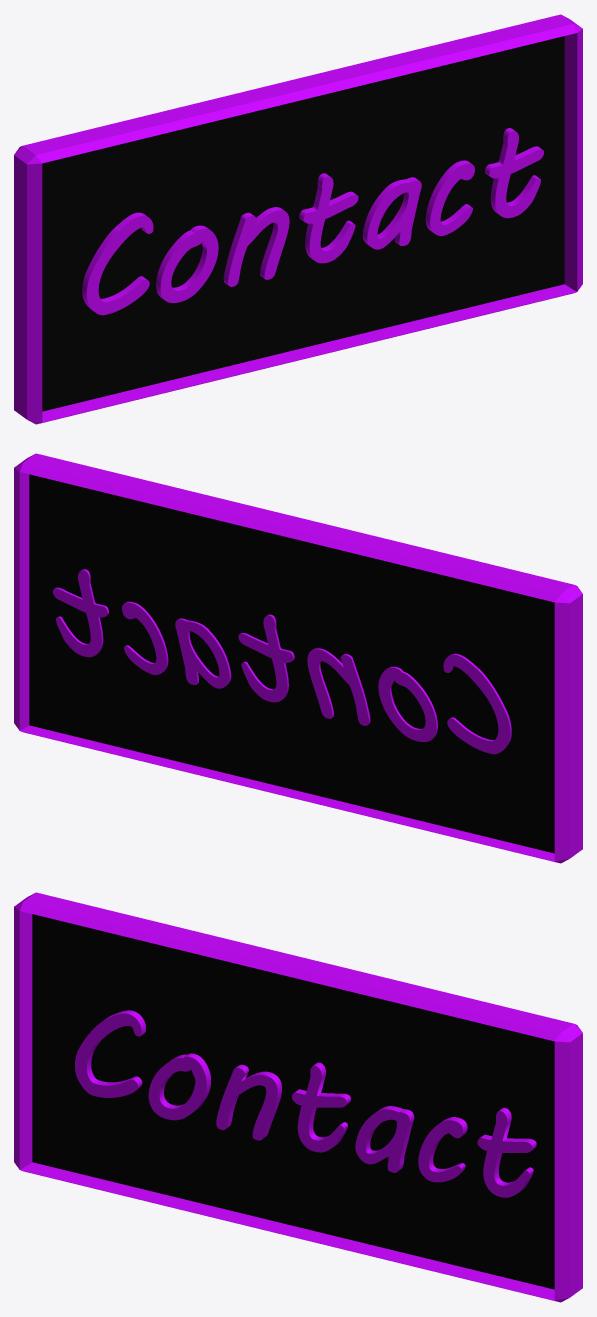
File: contact.gltf
3 views of the same model, one above another, from view 1: azimuth 30°, elevation 25°; view 2: azimuth 150°, elevation 25°; view 3: azimuth 330°, elevation 25° (orthographic).
Parts seen in each view (by area): view 1: Cube, Resume; view 2: Cube, Resume; view 3: Cube, Resume.
Boxes of the visible parts, left/top/right/bottom form: Cube: left=14, top=14, right=582, bottom=424; Resume: left=82, top=128, right=543, bottom=315; Cube: left=14, top=453, right=582, bottom=863; Resume: left=53, top=569, right=511, bottom=754; Cube: left=14, top=892, right=582, bottom=1302; Resume: left=75, top=1010, right=536, bottom=1197.
Size of the model in its own units: 3.04 by 1.41 by 0.2142.
